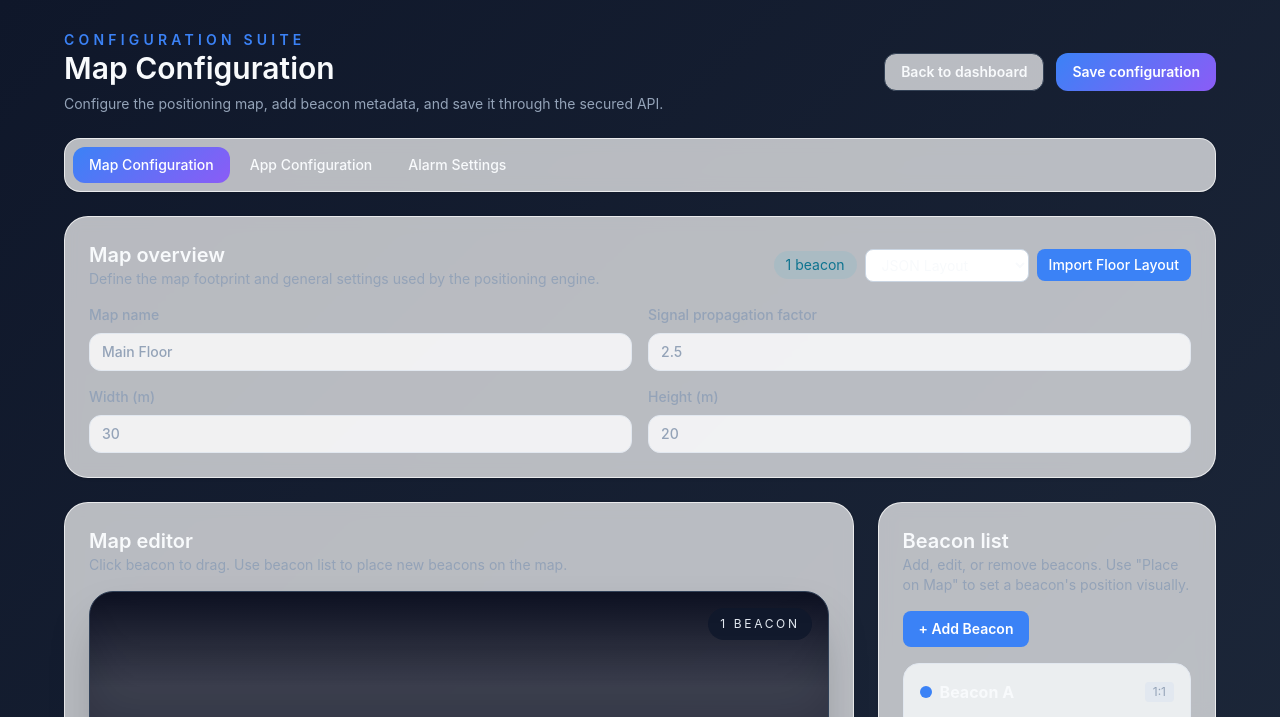
it: ConfigurationPage - MapEditor Integration › MapEditor renders correctly when switching back to Map Configuration tab
The width and height of the screenshot is (1280, 717).
Switch away and back
Click the tab "App Configuration".
click(311, 165)  # box [234, 147, 388, 183]
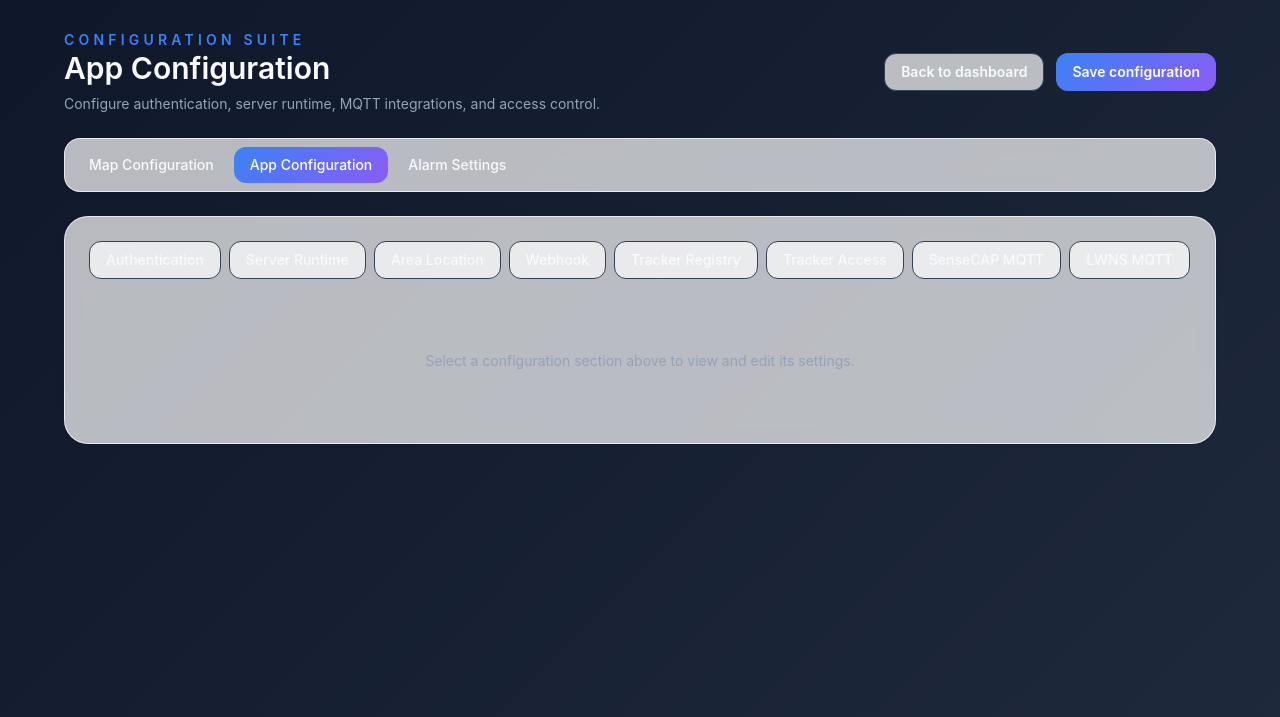
Click the tab "Map Configuration".
click(151, 165)  # box [73, 147, 230, 183]
(page scrolled)
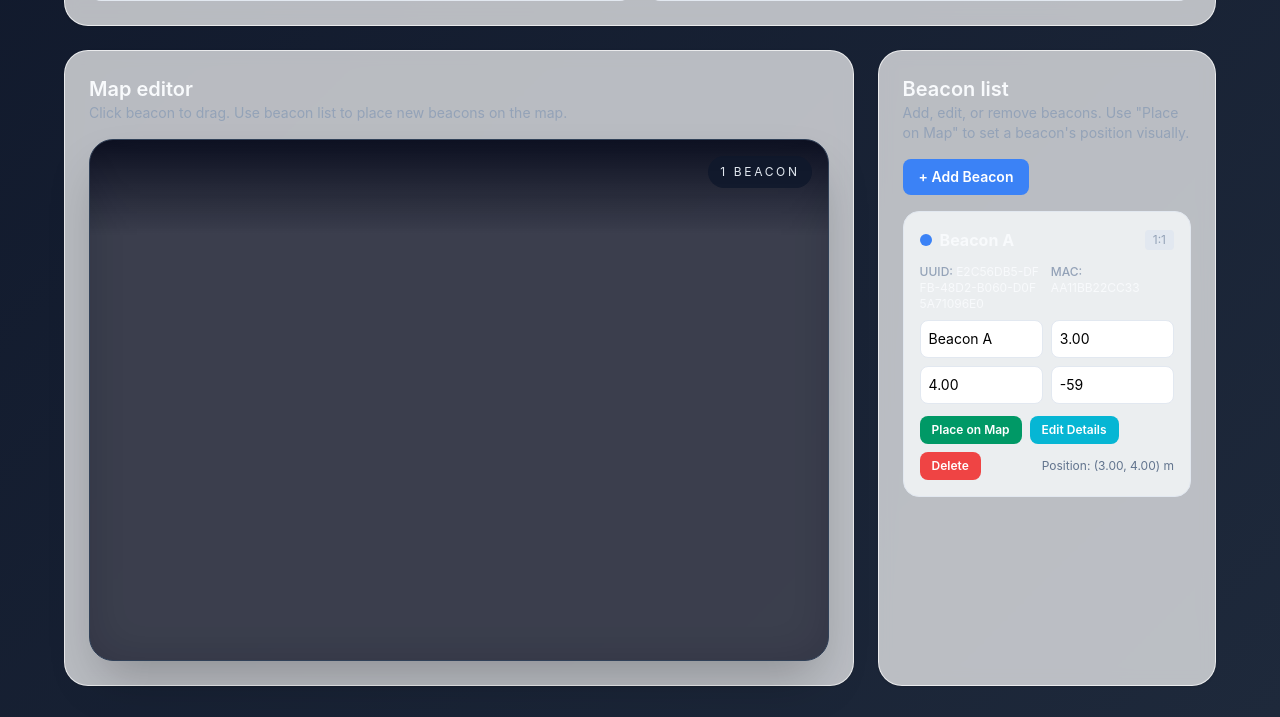
Now the drawing is shown, box [90, 140, 828, 660]
